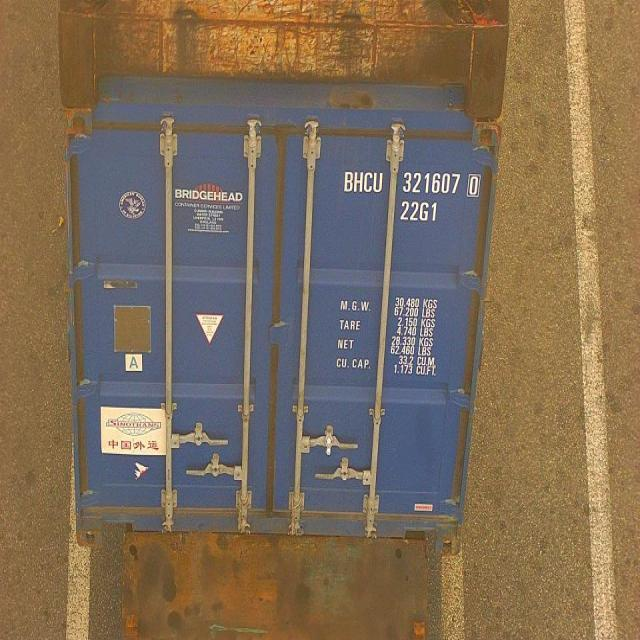ISO: (400, 200, 437, 222)
container_number: (342, 171, 477, 197)
